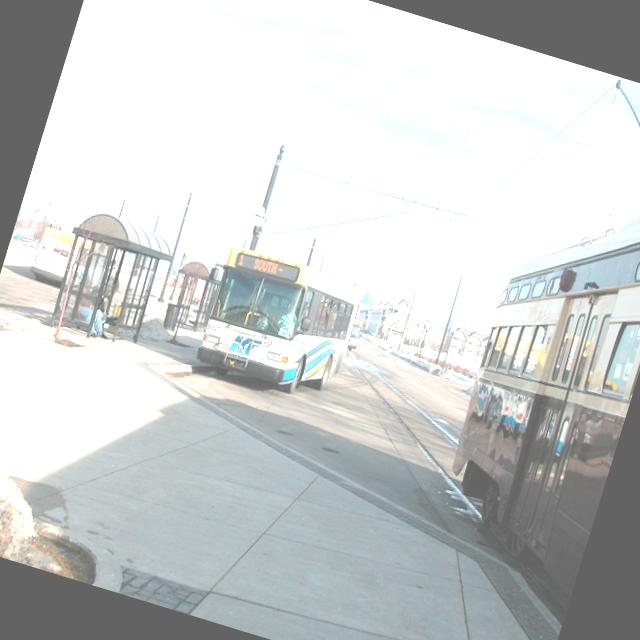Vehicle: (409, 128, 640, 635), (194, 242, 368, 406), (345, 318, 365, 353)
